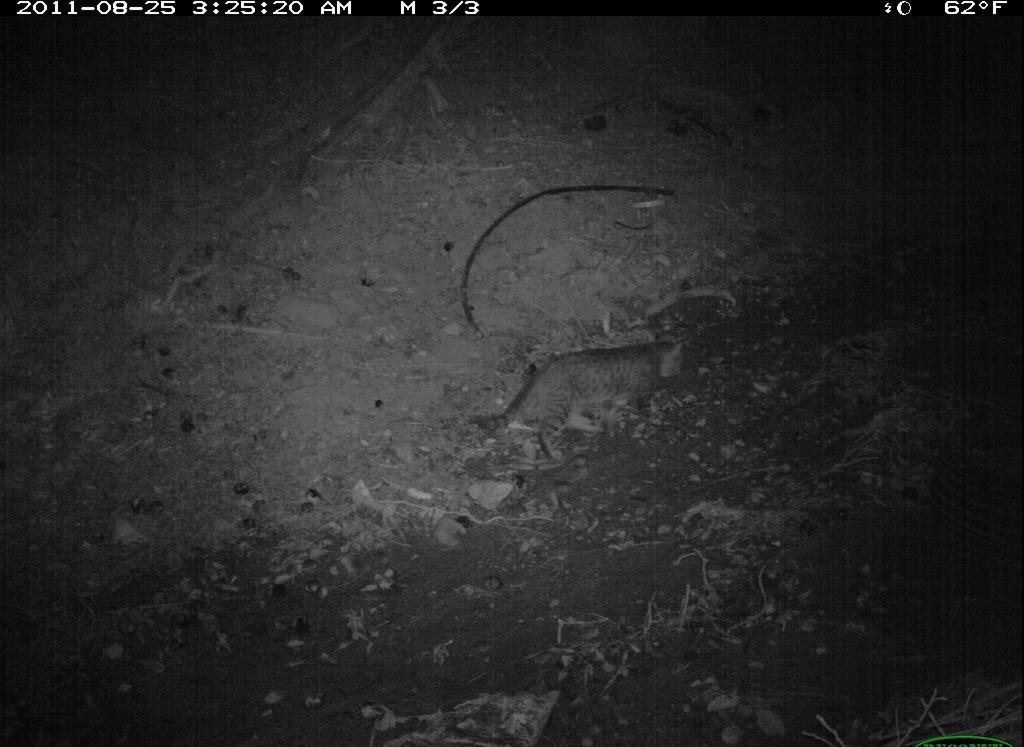cat: (472, 332, 696, 466)
